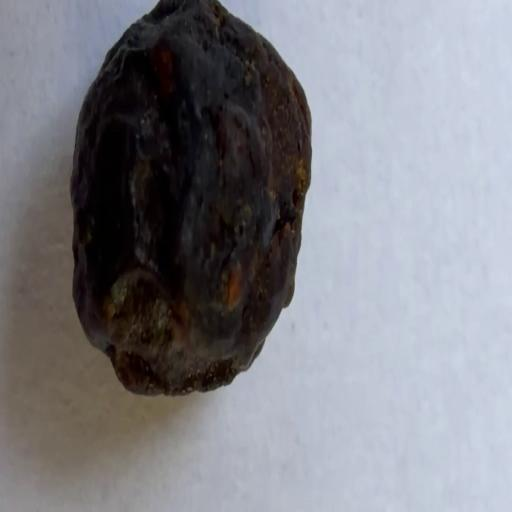Black_pepper: (48, 1, 323, 402)
